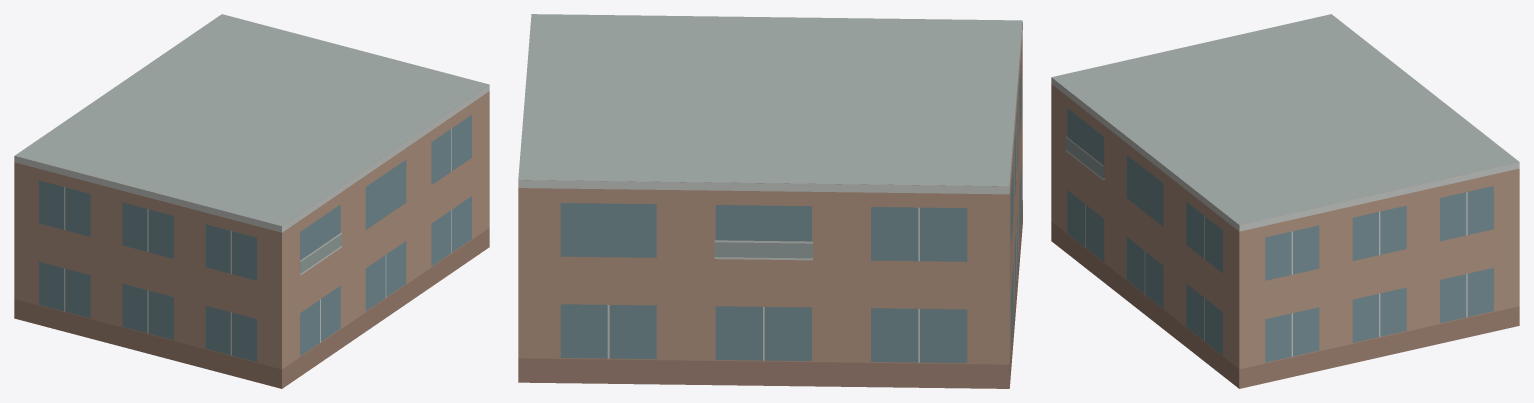
The model's file is survey-upis-32830662.glb.
3 renders of one model, left to right at view 1: azimuth 30°, elevation 25°; view 2: azimuth 150°, elevation 25°; view 3: azimuth 270°, elevation 25°, orthographic. The views are drawn at different scales.
Visible parts, largest first — view 1: survey-upis-32830662.tmp; view 2: survey-upis-32830662.tmp; view 3: survey-upis-32830662.tmp.
Part boxes in pixels (x1=…): survey-upis-32830662.tmp: x1=14, y1=14, x2=489, y2=388; survey-upis-32830662.tmp: x1=518, y1=14, x2=1022, y2=388; survey-upis-32830662.tmp: x1=1051, y1=14, x2=1519, y2=388.
Bounding box in the file's own units: 16.87 × 6.1 × 15.82.
